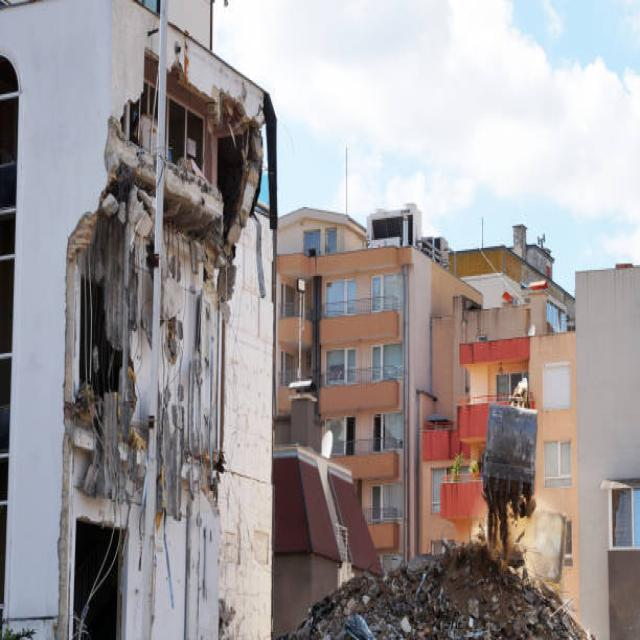Destroyed_building: (4, 0, 589, 640)
